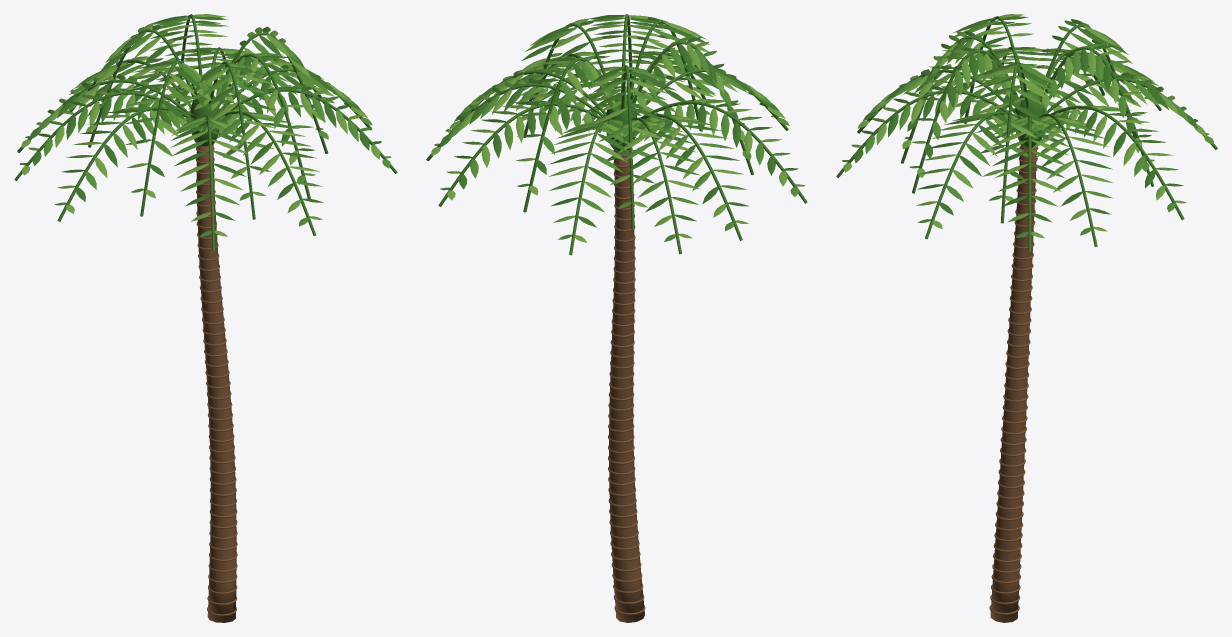
File: palm_light.glb
3 renders of one model, left to right at view 1: azimuth 30°, elevation 25°; view 2: azimuth 150°, elevation 25°; view 3: azimuth 270°, elevation 25°, orthographic. The views are drawn at different scales.
Visible parts, largest first — view 1: Palm trunk, Palm leaflets 2, Palm leaflets 1, Palm leaflets 0, Arching frond rachis.012, Arching frond rachis.004, Crownshaft, Arching frond rachis.015, Arching frond rachis.009, Arching frond rachis.002, Arching frond rachis.010; view 2: Palm leaflets 2, Palm trunk, Palm leaflets 1, Palm leaflets 0, Arching frond rachis.014, Arching frond rachis.004, Arching frond rachis.003, Arching frond rachis.011, Arching frond rachis.009, Arching frond rachis.006, Arching frond rachis.001; view 3: Palm leaflets 2, Palm trunk, Palm leaflets 0, Palm leaflets 1, Arching frond rachis.003, Arching frond rachis.013, Arching frond rachis.010, Arching frond rachis.005, Crownshaft, Arching frond rachis.002, Arching frond rachis.008, Arching frond rachis.
Boxes of the visible parts, bbox=[...] form: Palm trunk: bbox=[196, 144, 236, 622]; Palm leaflets 2: bbox=[21, 14, 391, 236]; Palm leaflets 1: bbox=[20, 16, 390, 237]; Palm leaflets 0: bbox=[29, 15, 381, 220]; Arching frond rachis.012: bbox=[140, 60, 199, 216]; Arching frond rachis.004: bbox=[57, 106, 194, 221]; Crownshaft: bbox=[190, 92, 219, 146]; Arching frond rachis.015: bbox=[208, 61, 255, 219]; Arching frond rachis.009: bbox=[14, 91, 190, 180]; Arching frond rachis.002: bbox=[218, 111, 316, 235]; Arching frond rachis.010: bbox=[229, 53, 310, 198]; Palm leaflets 2: bbox=[431, 15, 804, 242]; Palm trunk: bbox=[609, 149, 644, 622]; Palm leaflets 1: bbox=[434, 16, 798, 241]; Palm leaflets 0: bbox=[440, 15, 798, 227]; Arching frond rachis.014: bbox=[621, 65, 634, 229]; Arching frond rachis.004: bbox=[640, 101, 807, 203]; Arching frond rachis.003: bbox=[438, 102, 607, 206]; Arching frond rachis.011: bbox=[523, 57, 607, 212]; Arching frond rachis.009: bbox=[640, 113, 742, 240]; Arching frond rachis.006: bbox=[569, 118, 613, 255]; Arching frond rachis.001: bbox=[631, 117, 681, 254]; Palm leaflets 2: bbox=[843, 14, 1209, 238]; Palm trunk: bbox=[990, 144, 1036, 622]; Palm leaflets 0: bbox=[854, 16, 1198, 222]; Palm leaflets 1: bbox=[842, 16, 1213, 238]; Arching frond rachis.003: bbox=[1050, 105, 1184, 220]; Arching frond rachis.013: bbox=[1000, 62, 1028, 223]; Arching frond rachis.010: bbox=[912, 49, 1017, 193]; Arching frond rachis.005: bbox=[925, 111, 1019, 239]; Crownshaft: bbox=[1014, 89, 1044, 147]; Arching frond rachis.002: bbox=[836, 90, 1013, 177]; Arching frond rachis.008: bbox=[1039, 113, 1097, 246]; Arching frond rachis: bbox=[1028, 115, 1031, 251].
Size of the model in its own units: 5.39 by 8.88 by 5.33.
